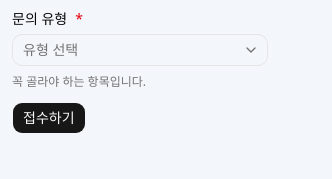
form: asks for a value before it accepts the form
Click the button "접수하기" at (49, 118), box [12, 102, 86, 134]
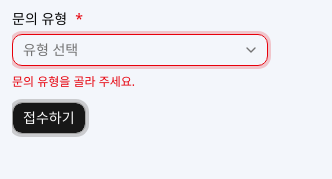
Click the dropdown named "문의 유형" at (140, 50), box [12, 34, 268, 66]
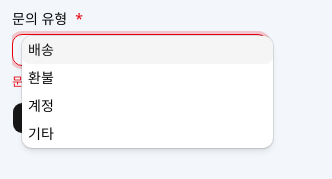
Click the option "환불" at (41, 78), box [28, 68, 54, 87]
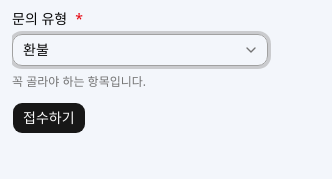
Result: the dropdown named "문의 유형" does not have attribute aria-invalid at [12, 34, 268, 66]
Click the button "접수하기" at (49, 118), box [12, 102, 86, 134]
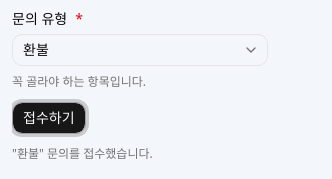
Result: the message reads "\"환불\" 문의를 접수했습니다." at [12, 145, 153, 162]
